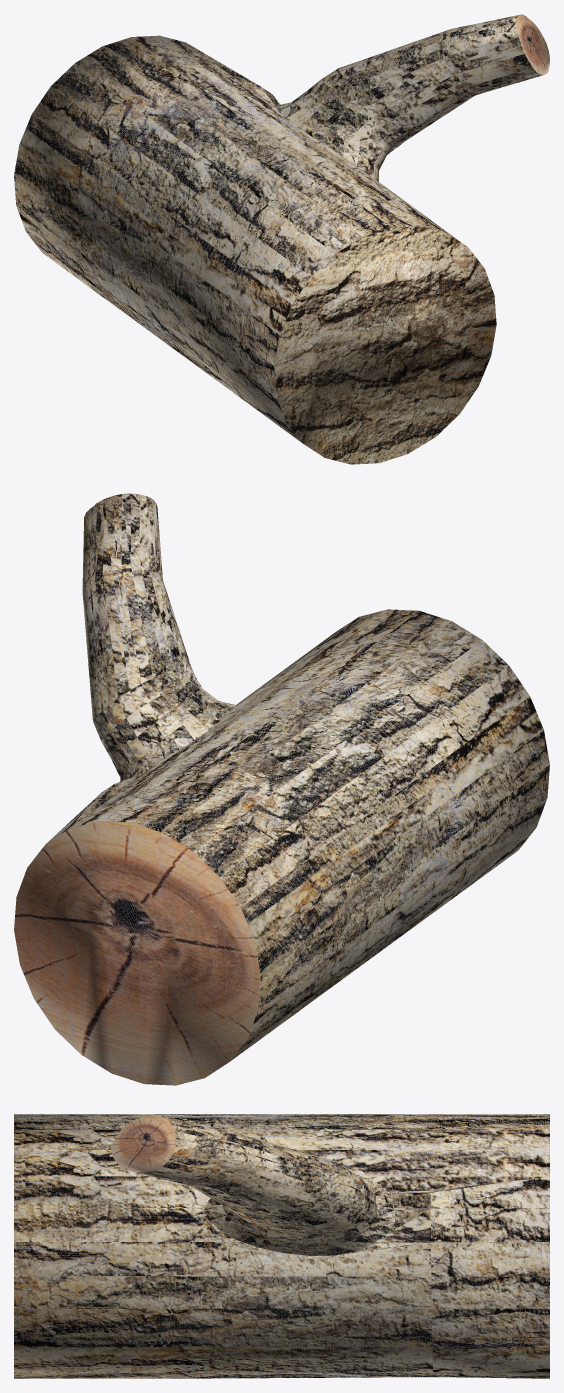
3 views of the same model, one above another, from view 1: azimuth 30°, elevation 25°; view 2: azimuth 150°, elevation 25°; view 3: azimuth 270°, elevation 25° (orthographic). The views are drawn at different scales.
Parts seen in each view (by area): view 1: コンポーネント_5 (×3); view 2: コンポーネント_5 (×2); view 3: コンポーネント_5 (×2).
Part boxes in pixels (x1,y1,x2,y2): コンポーネント_5 (×3): (14, 14, 549, 464); コンポーネント_5 (×2): (14, 493, 549, 1085); コンポーネント_5 (×2): (14, 1114, 549, 1378).
Bounding box in the file's own units: 9.32 × 12.2 × 8.84.
